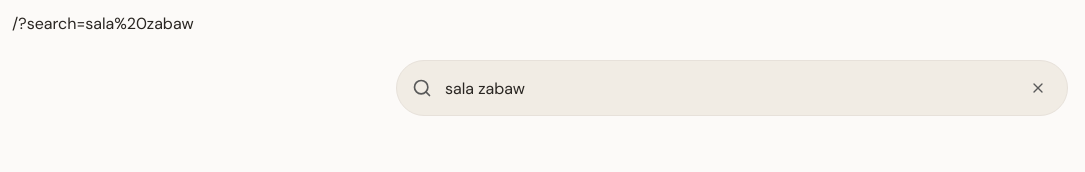
Scenario: HomeSearch — fraza = replace (R1, wariant A) › druga fraza podmienia pierwszą, dalej bez nowego wpisu
Replace the text in the dropdown with "ochorowiczówka": [732, 88] box [396,60,1068,116]
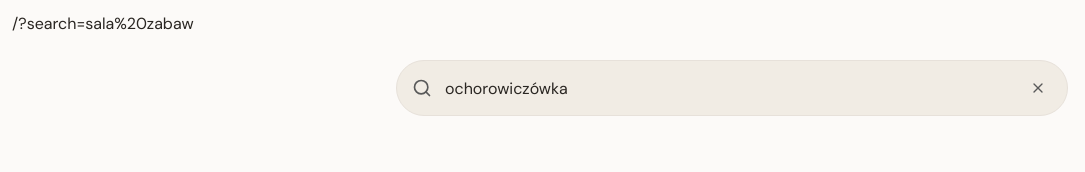
Press Enter in the dropdown, box [396,60,1068,116]
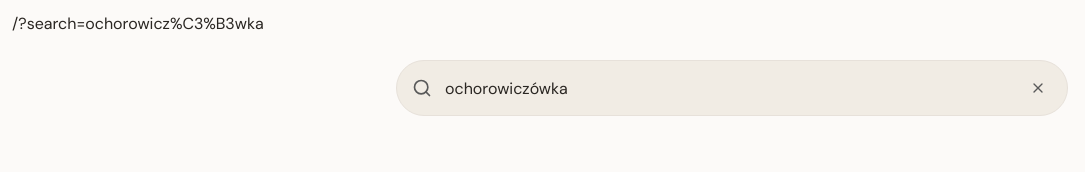
Expected: the text with test id "adres" reads "/?search=ochorowicz%C3%B3wka", [12,13,264,34]
